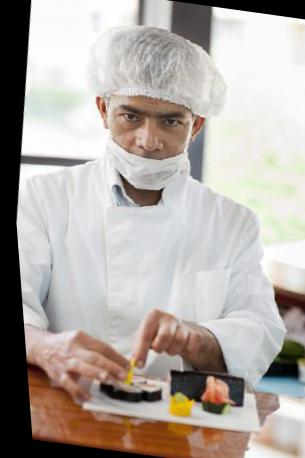WRONG: (96, 92, 197, 198)
